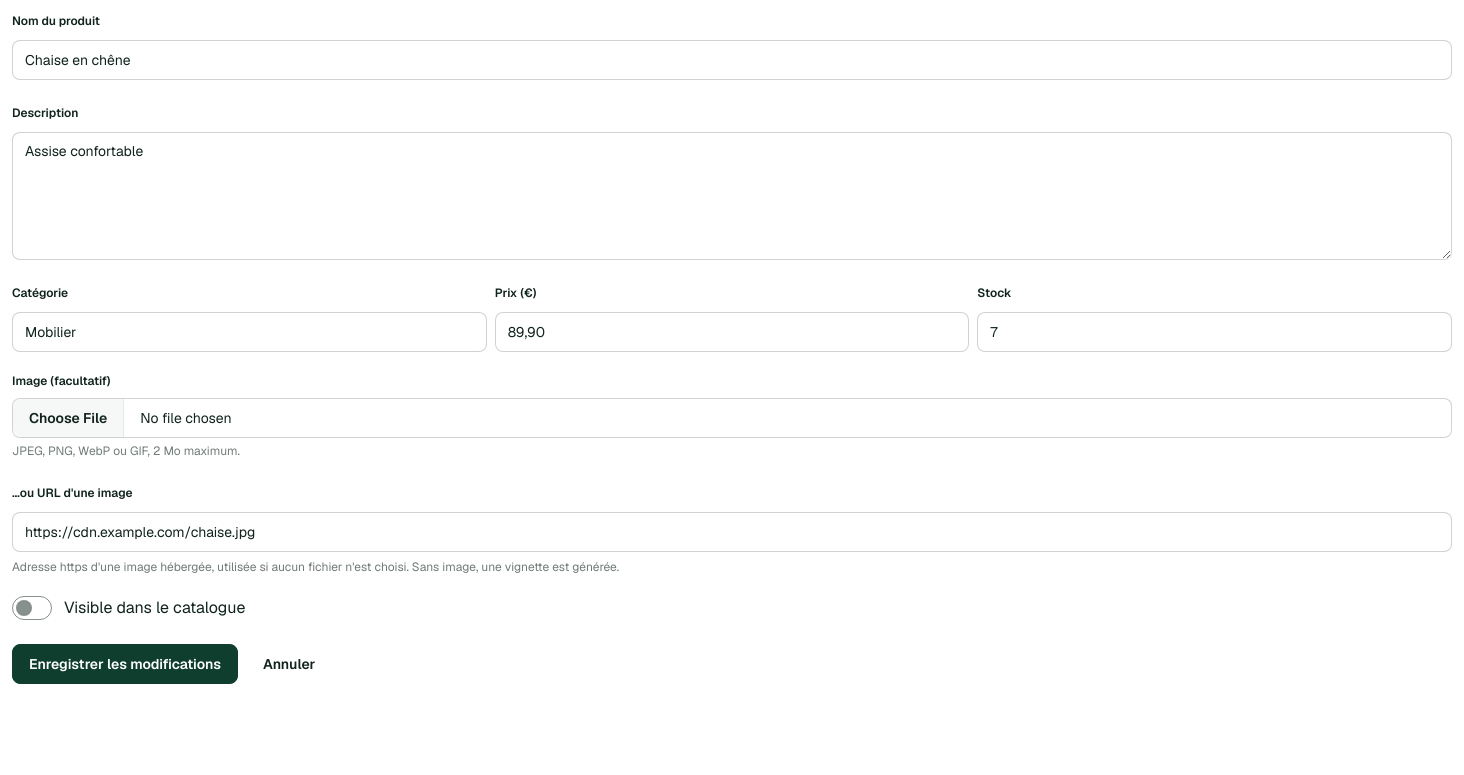
ProductForm — soumission › réaffiche la saisie et les erreurs renvoyées par le serveur
Step 1. Click the button "Enregistrer les modifications" → (125, 664), box [12,644,238,684]
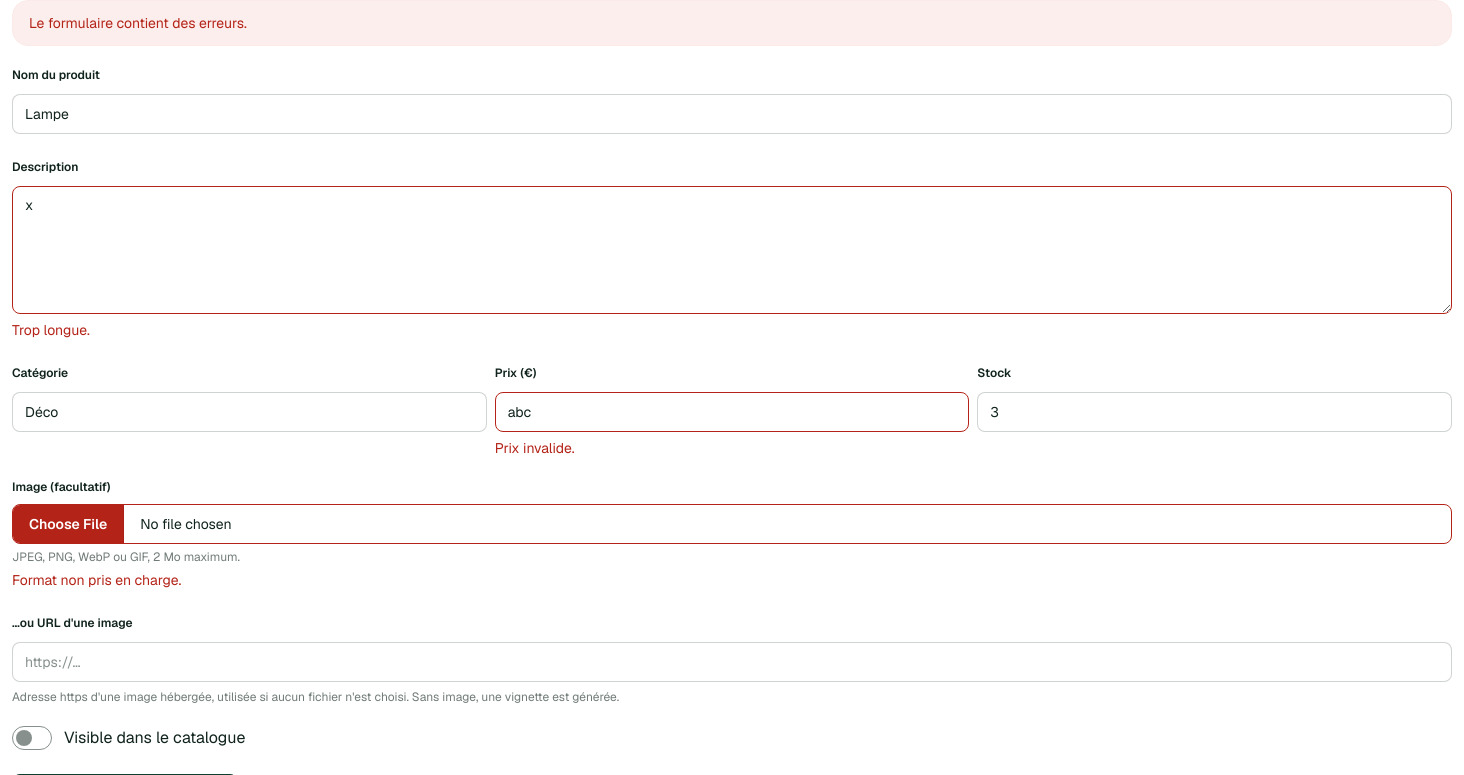
Result: the message reads "Le formulaire contient des erreurs." at [29,14,247,32]
Result: the field labelled "Nom du produit" holds "Lampe" at [12,94,1452,134]
Result: the field labelled "Prix (€)" holds "abc" at [495,392,969,432]
